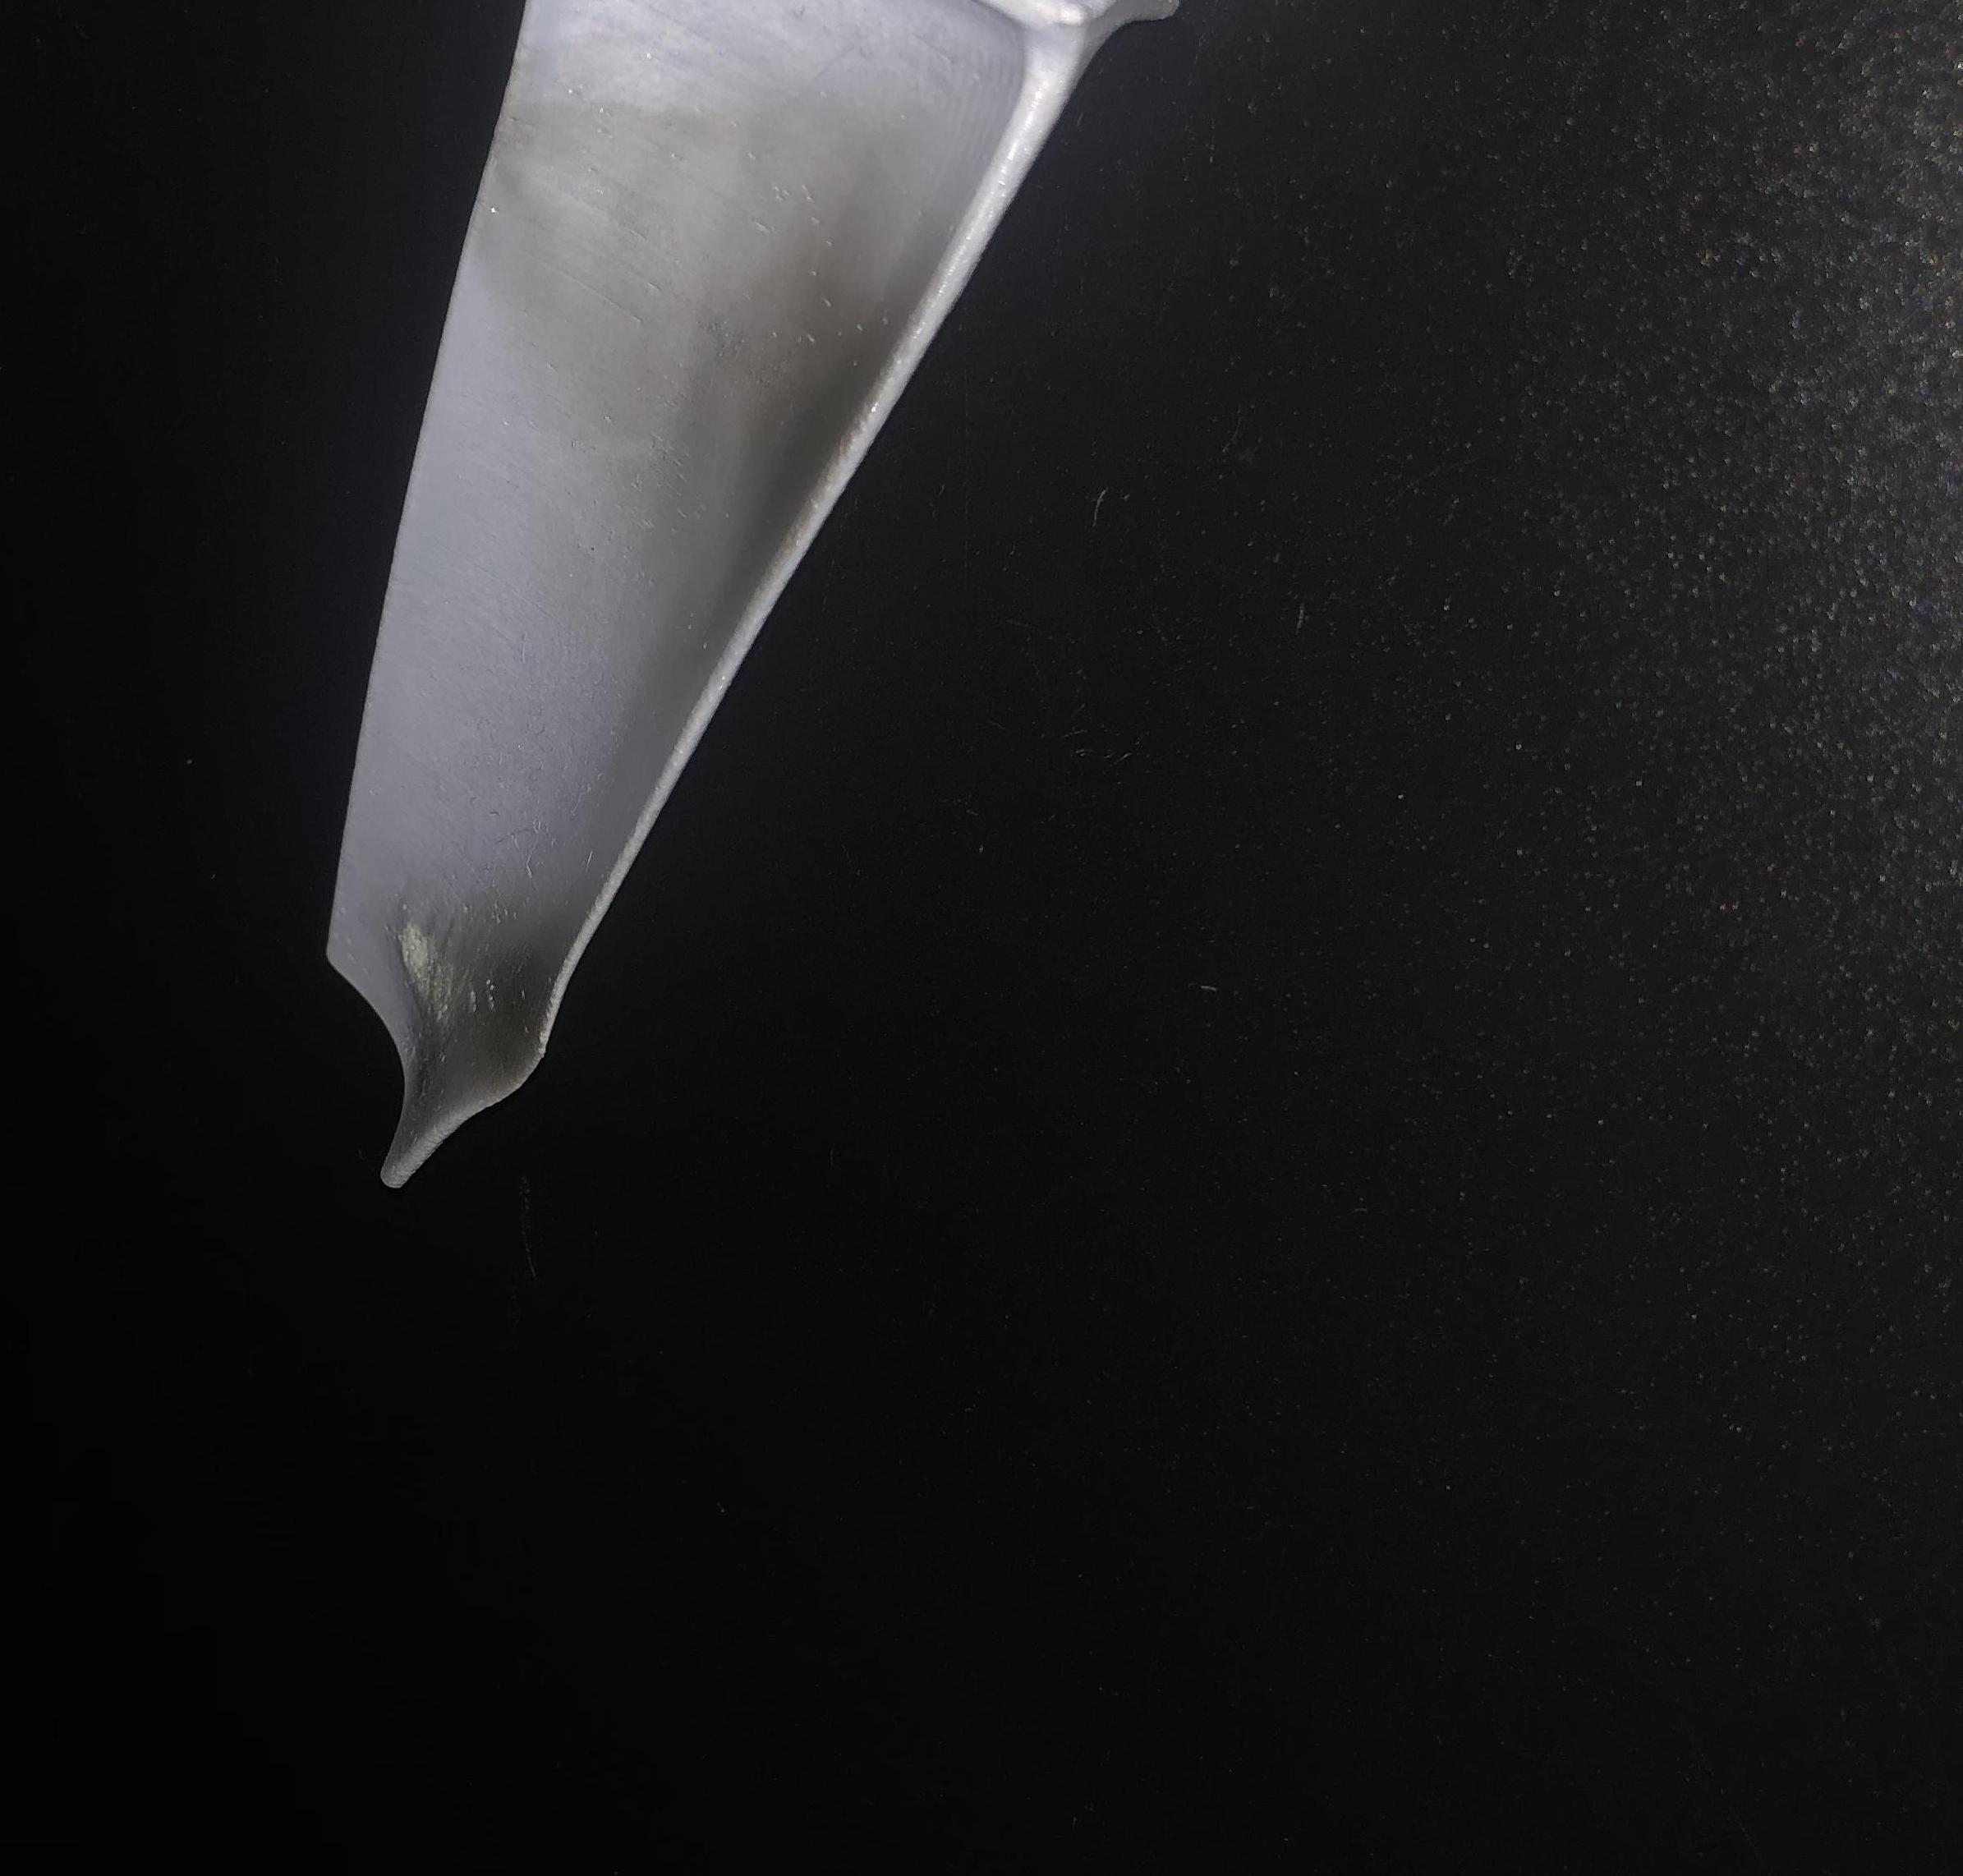ablation: (720, 286, 862, 538), (391, 924, 538, 1091)
